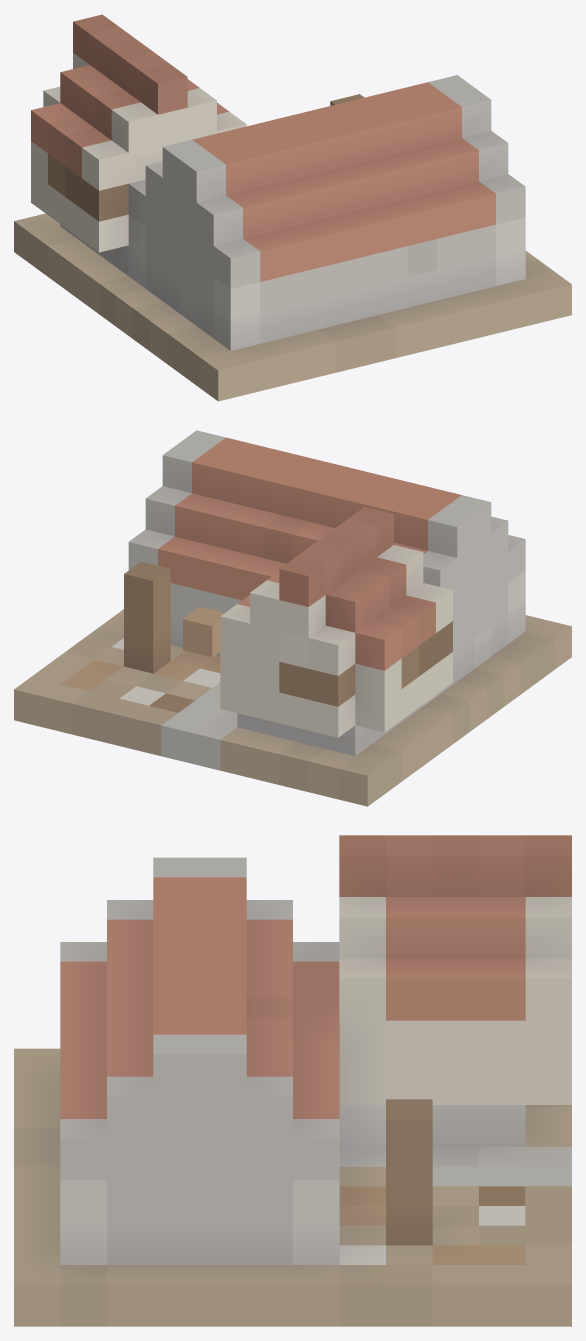
The model's file is warehouse.l3.lite.glb.
3 renders of one model, top to bottom at view 1: azimuth 30°, elevation 25°; view 2: azimuth 150°, elevation 25°; view 3: azimuth 270°, elevation 25°, orthographic. The views are drawn at different scales.
Visible parts, largest first — view 1: warehouse; view 2: warehouse; view 3: warehouse.
Boxes of the visible parts, bbox=[...] form: warehouse: bbox=[14, 14, 571, 401]; warehouse: bbox=[14, 430, 571, 806]; warehouse: bbox=[14, 835, 571, 1326].
Bounding box in the file's own units: 6 × 3.5 × 6.
